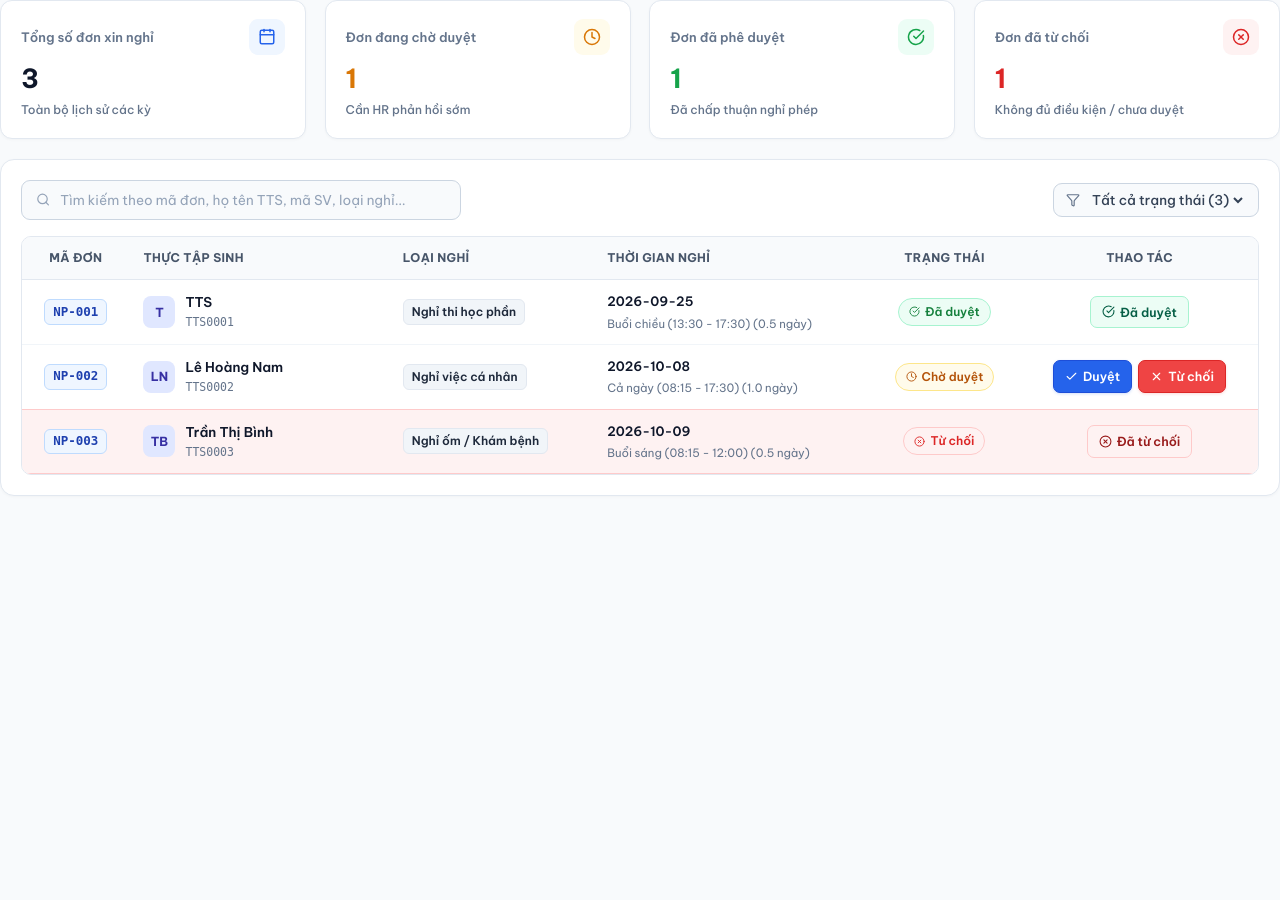
Scenario: LeaveRequestManagement Test Suite (HR Leave Approval) › 3. Modal & Review Flow (Duyệt & Từ chối) › kịch bản Duyệt đơn: mở Modal -> nhập ghi chú -> xác nhận -> gọi API approve -> cập nhật trạng thái
The width and height of the screenshot is (1280, 900).
Step 1. Click the button "Duyệt" → [1093, 377], box x1=1053 y1=360 x2=1132 y2=393
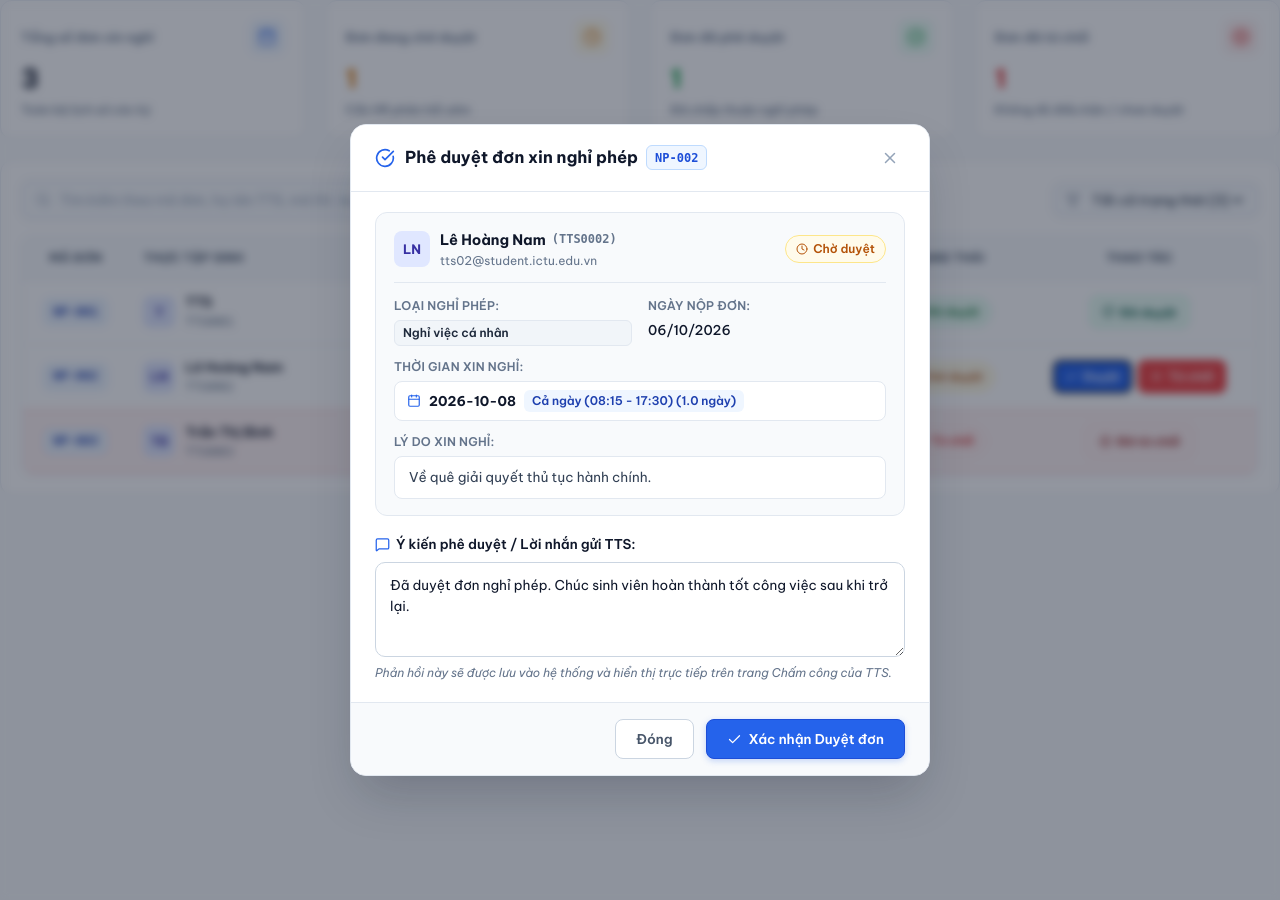
expect the dialog is shown: met, box x1=350 y1=124 x2=930 y2=776
expect the heading "Phê duyệt đơn xin nghỉ phép NP-002" is shown: met, box x1=405 y1=145 x2=707 y2=170
Note: Bấm Xác nhận duyệt đơn
Step 2. Click the button "Xác nhận Duyệt đơn" → [805, 739], box x1=706 y1=719 x2=905 y2=760
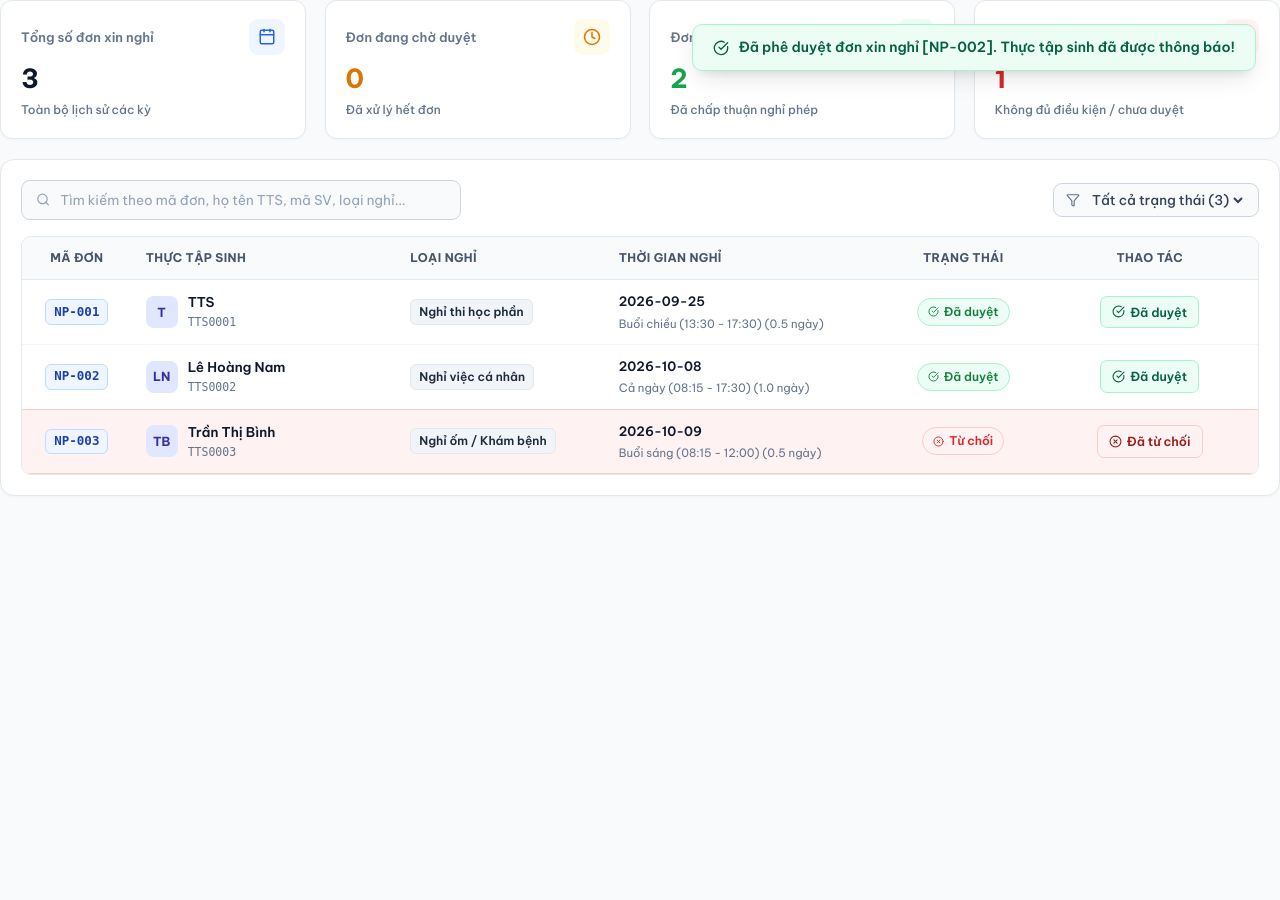
expect the button "Đã duyệt" in the row of "LN" is shown: met, box x1=1100 y1=360 x2=1199 y2=393
